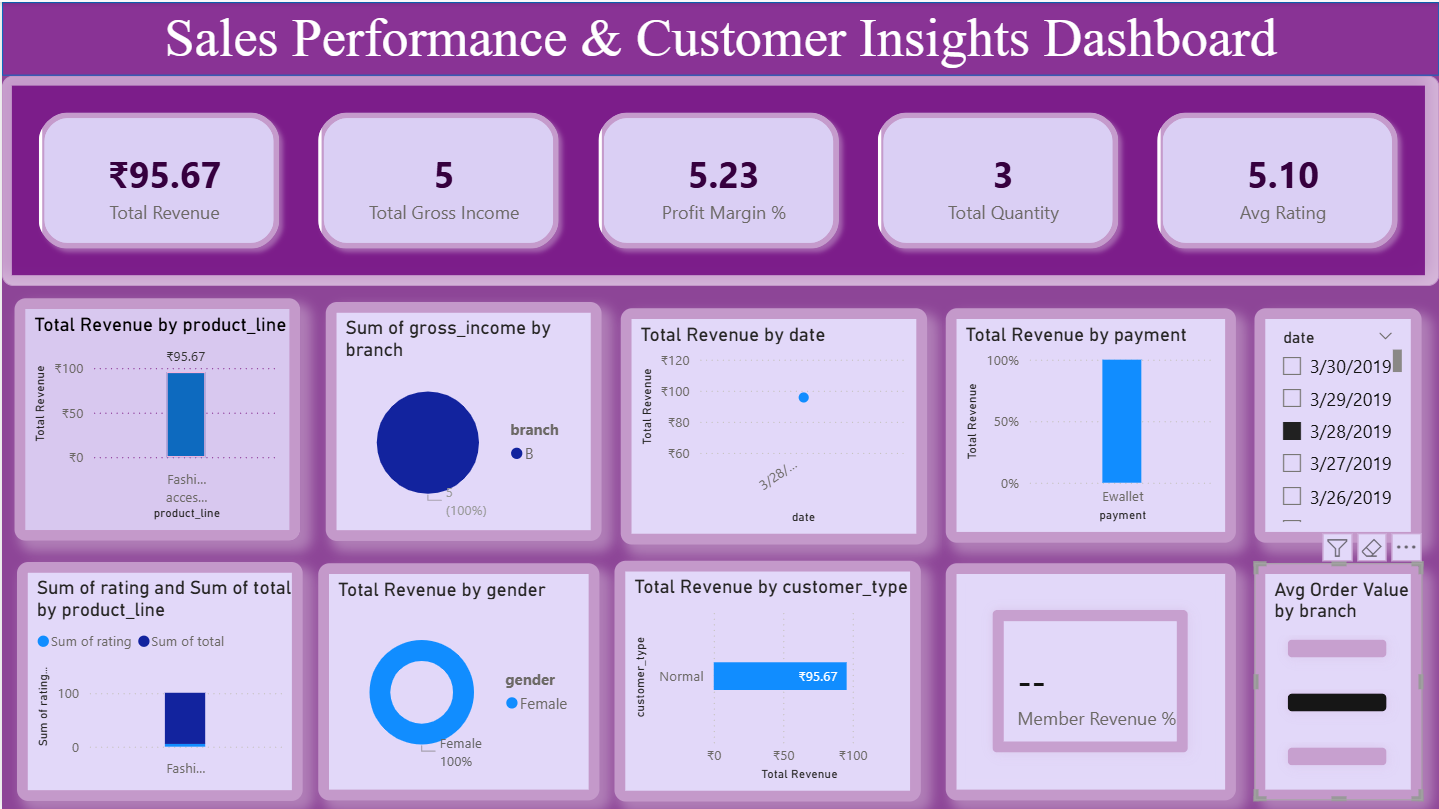

This screenshot's page, from the dashboard's own definition file:
{"tool":"powerbi","page":{"name":"Page 1","canvas":[1280,720],"ordinal":0},"visuals":[{"type":"cardVisual","fields":{"Data":["public sales_data.Total Revenue","public sales_data.Total Gross Income","public sales_data.Profit Margin %","public sales_data.Total Quantity","public sales_data.Avg Rating"]},"box":[0,65.7,1280,187.1],"z":0},{"type":"pieChart","fields":{"Category":["public sales_data.branch"],"Y":["Sum(public sales_data.gross_income)"]},"box":[288.6,267.1,245.7,212.9],"z":1000},{"type":"clusteredColumnChart","fields":{"Category":["public sales_data.product_line"],"Y":["public sales_data.Total Revenue"]},"box":[11.4,264.3,254.3,215.7],"z":2000},{"type":"lineChart","fields":{"Category":["public sales_data.date"],"Y":["public sales_data.Total Revenue"]},"box":[551.4,272.9,272.9,210],"z":3000},{"type":"hundredPercentStackedColumnChart","fields":{"Category":["public sales_data.payment"],"Y":["public sales_data.Total Revenue"]},"box":[840,272.9,258.6,208.6],"z":4000},{"type":"lineStackedColumnComboChart","fields":{"Y":["Sum(public sales_data.rating)","Sum(public sales_data.total)"],"Category":["public sales_data.product_line"]},"box":[12.9,498.6,254.3,212.9],"z":5000},{"type":"donutChart","fields":{"Category":["public sales_data.gender"],"Y":["public sales_data.Total Revenue"]},"box":[281.4,500,250,211.4],"z":6000},{"type":"clusteredBarChart","fields":{"Category":["public sales_data.customer_type"],"Y":["public sales_data.Total Revenue"]},"box":[545.7,497.1,272.9,214.3],"z":7000},{"type":"cardVisual","fields":{"Data":["public sales_data.Member Revenue %"]},"box":[840,500,258.6,211.4],"z":8000},{"type":"slicer","fields":{"Values":["public sales_data.date"]},"box":[1115.7,272.9,148.6,208.6],"z":9000},{"type":"shape","box":[0,0,1280,65.7],"z":10000},{"type":"textbox","box":[0,0,1280,65.7],"z":11000},{"type":"cardVisual","fields":{"Data":["public sales_data.Avg Order Value"]},"box":[1115.7,500,148.6,211.4],"z":12000}]}

Visuals, with their boxes in screenshot pixels (x1, y1, x2, y2), scaled from the page's 1280x720 canvas onto the 1439x809 screenshot:
cardVisual - public sales_data.Total Revenue x public sales_data.Total Gross Income: 0 74 1438 284
pieChart - public sales_data.branch x Sum(public sales_data.gross_income): 324 300 601 539
clusteredColumnChart - public sales_data.product_line x public sales_data.Total Revenue: 13 297 299 539
lineChart - public sales_data.date x public sales_data.Total Revenue: 620 307 927 543
hundredPercentStackedColumnChart - public sales_data.payment x public sales_data.Total Revenue: 944 307 1235 541
lineStackedColumnComboChart - Sum(public sales_data.rating) x Sum(public sales_data.total): 15 560 300 799
donutChart - public sales_data.gender x public sales_data.Total Revenue: 316 562 597 799
clusteredBarChart - public sales_data.customer_type x public sales_data.Total Revenue: 613 559 920 799
cardVisual - public sales_data.Member Revenue %: 944 562 1235 799
slicer - public sales_data.date: 1254 307 1421 541
shape: 0 0 1438 74
textbox: 0 0 1438 74
cardVisual - public sales_data.Avg Order Value: 1254 562 1421 799
